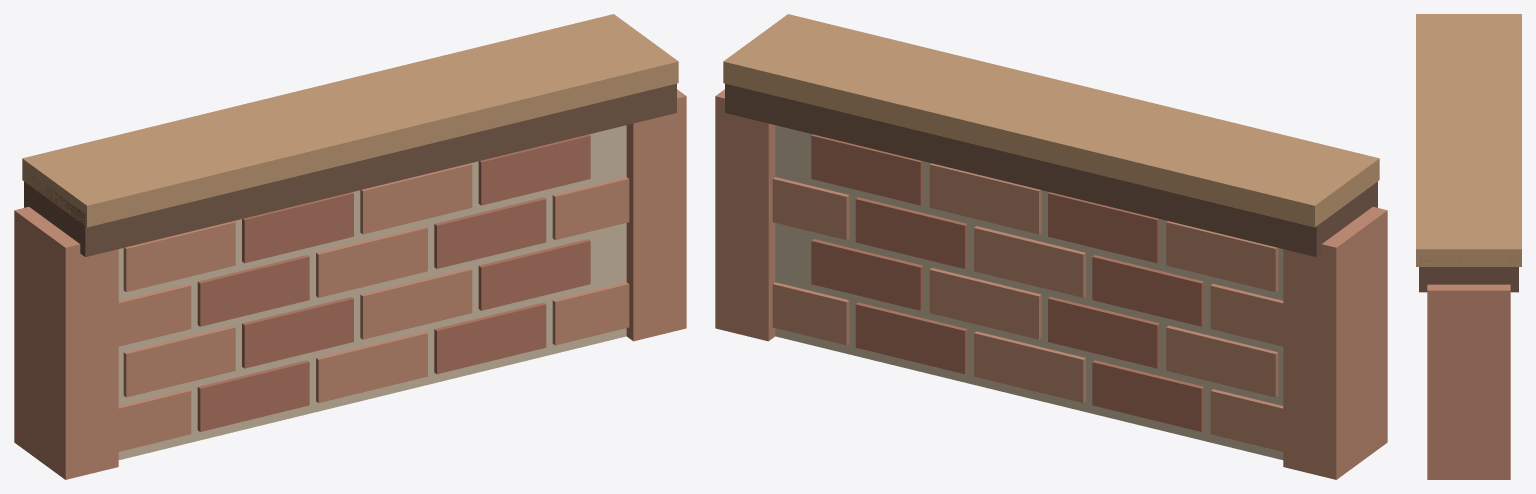
The model's file is kitchen-halfwall-brick.glb.
The picture shows the model from 3 angles, left to right: view 1: azimuth 30°, elevation 25°; view 2: azimuth 150°, elevation 25°; view 3: azimuth 270°, elevation 25°; orthographic projection. The views are drawn at different scales.
Parts seen in each view (by area): view 1: kitchen_halfwall_brick_cap; view 2: kitchen_halfwall_brick_cap; view 3: kitchen_halfwall_brick_cap.
Part boxes in pixels (x1,y1,x2,y2): kitchen_halfwall_brick_cap: (14, 14, 686, 479); kitchen_halfwall_brick_cap: (715, 14, 1387, 479); kitchen_halfwall_brick_cap: (1416, 14, 1521, 479).
Bounding box in the file's own units: 2.1 × 0.89 × 0.38.
